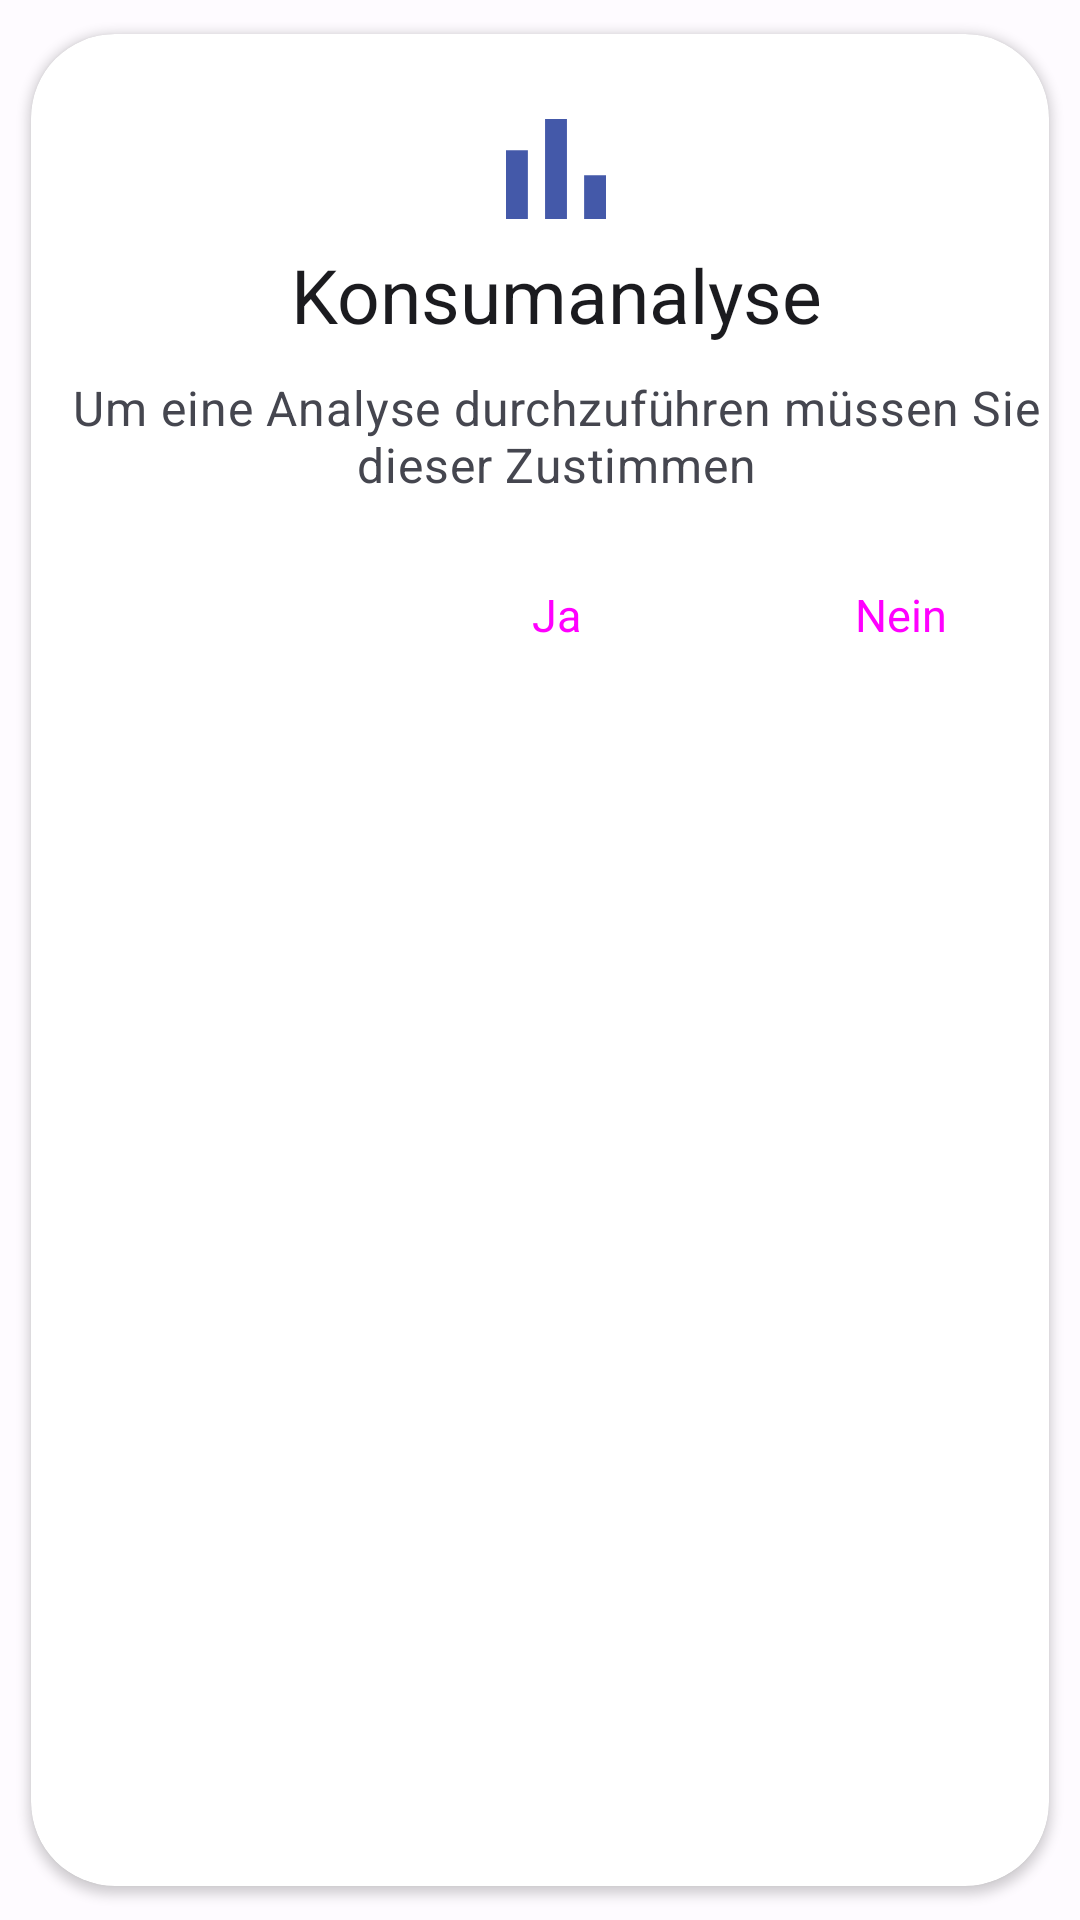

Icon click points for this 1080x1920 phone screenshot, format (x=x, y=y):
graph: (x=556, y=169)
